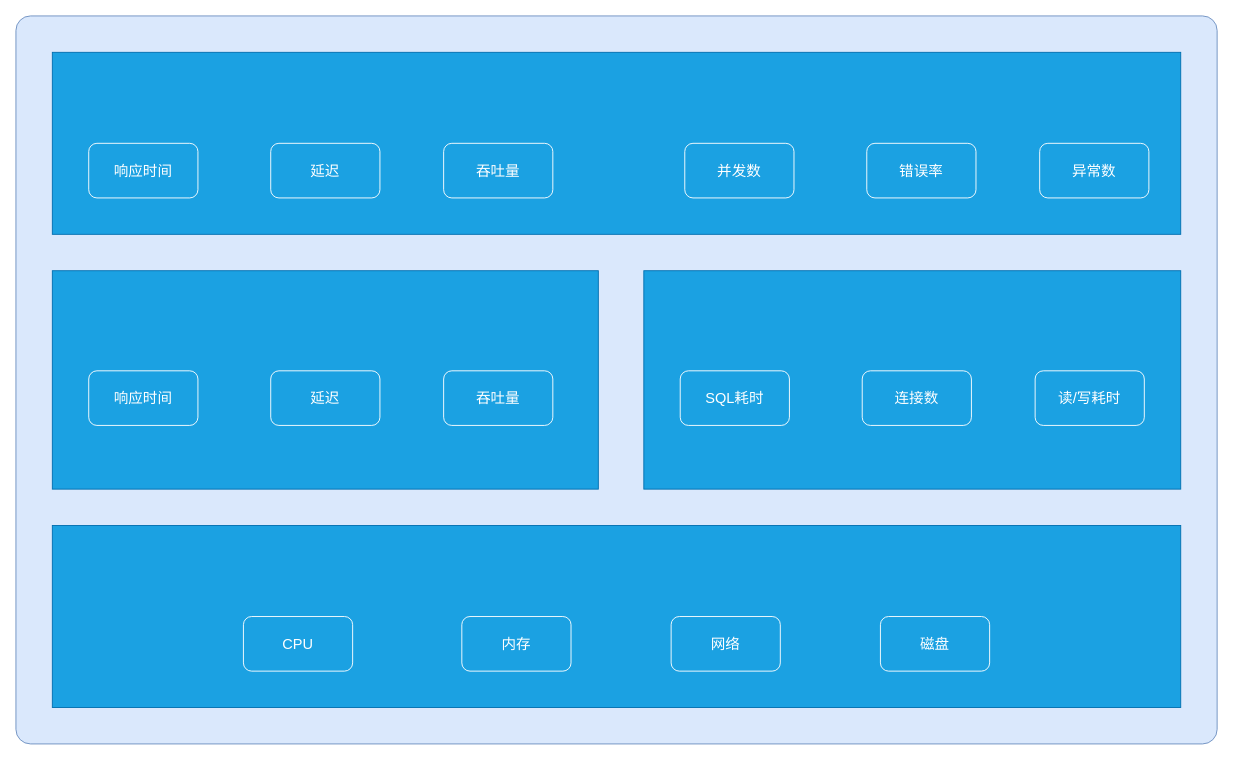
The diagram is 1233 pixels wide and 760 high, and some of its shapes have lost their labels. The shapes that lost their labels are listed below. From the top down, each one's box as (x1, y1, x2, y2) in pixels, then its label:
(51, 51, 1181, 234): 业务指标
(51, 270, 598, 489): 中间件指标
(643, 270, 1181, 489): 数据库指标
(51, 525, 1181, 708): 资源指标
